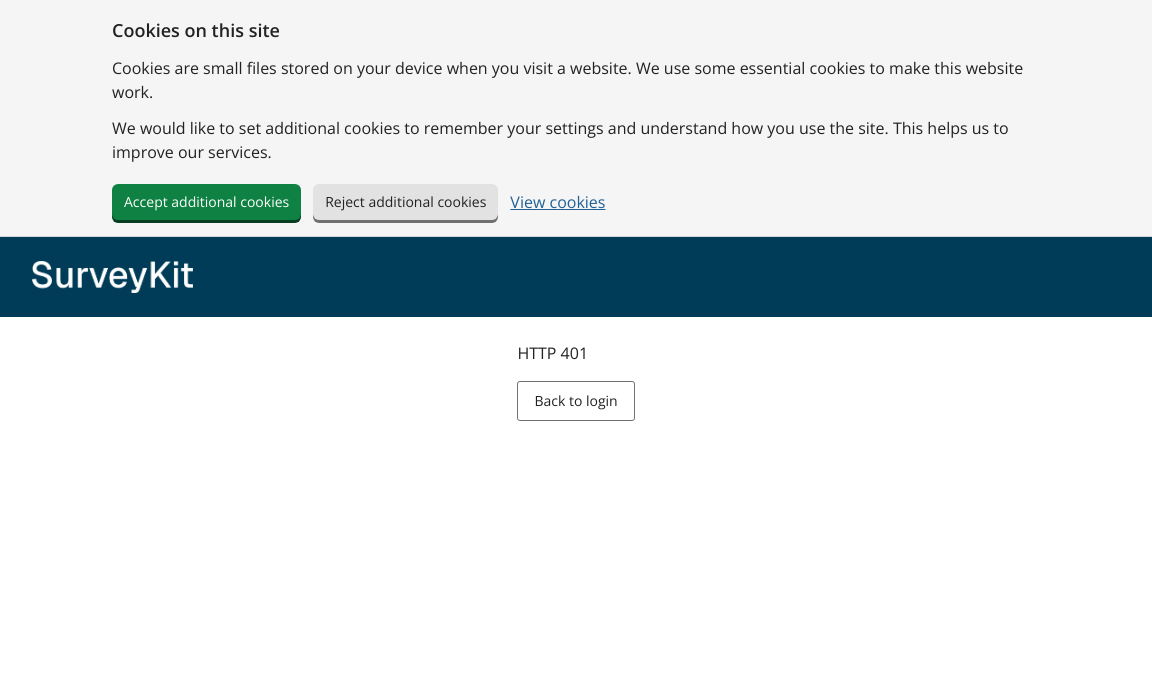
Test case: App Router Integration › clears token and shows login when profile returns 401 and user taps Back to login
expect the text "HTTP 401" is shown: met, box [517,342,588,364]
Click the button "Back to login". click: (576, 401)
box: [517,381,635,421]
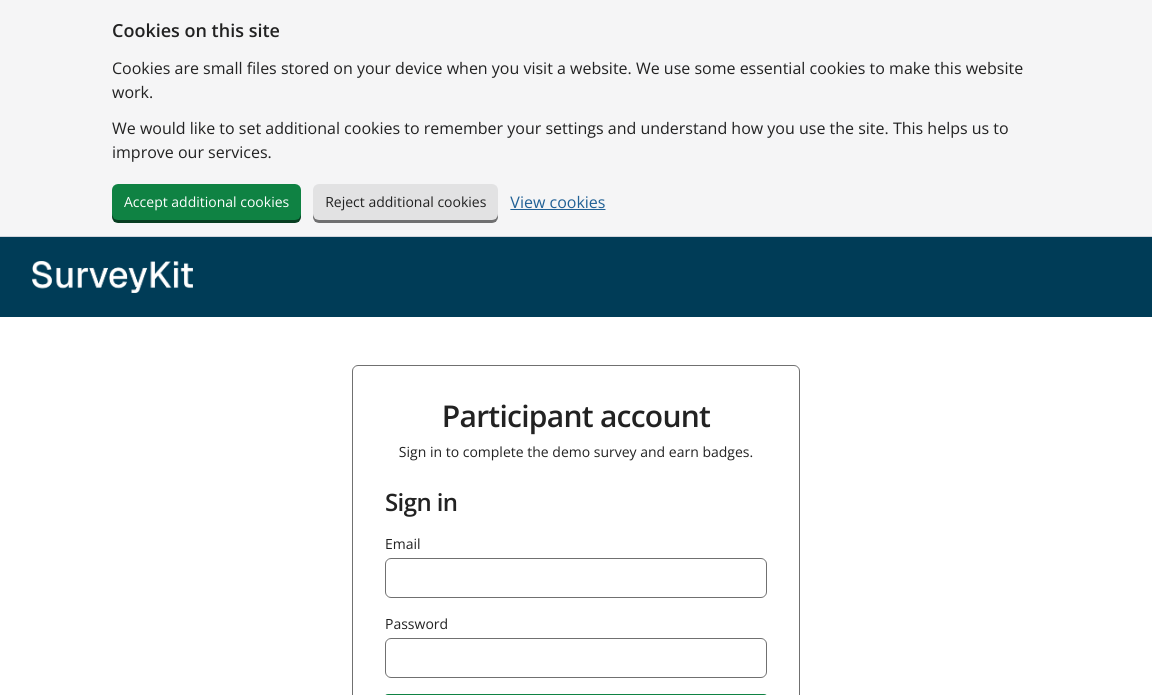
expect the heading "Participant account" is shown: met, box [442,395,710,436]
